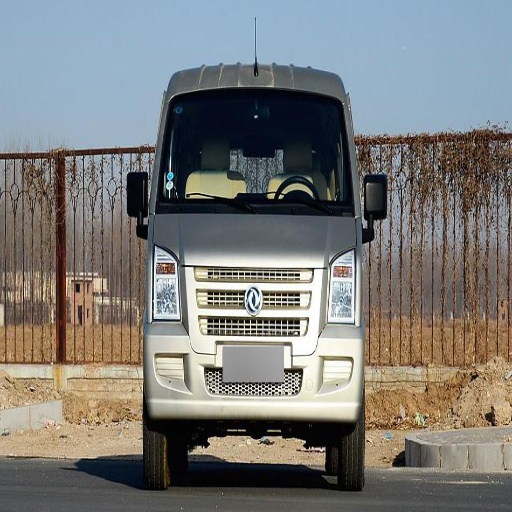back_bumper: (399, 434, 510, 511)
front_bumper: (146, 267, 366, 417)
front_right_light: (154, 252, 181, 321)
hood: (172, 214, 355, 299)
